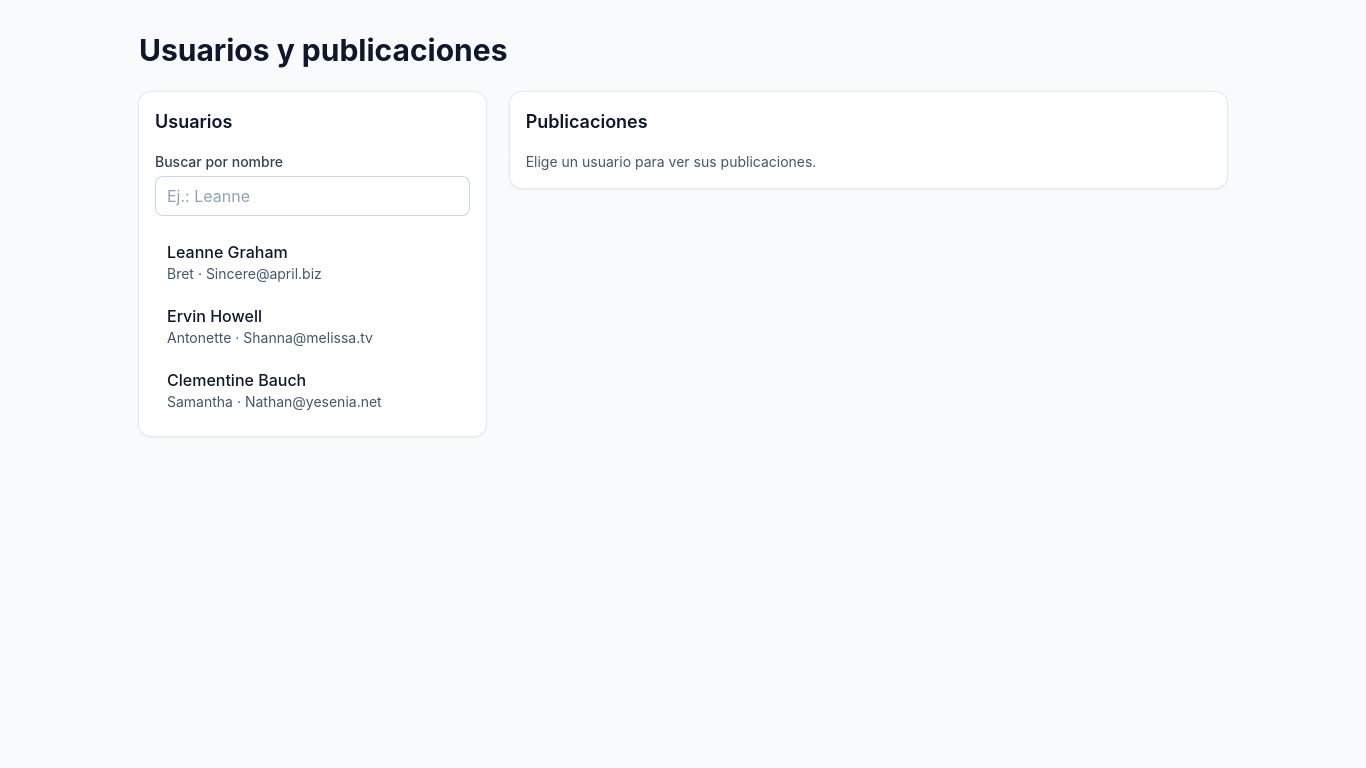
Test case: create post › adds the new post at the top of the list and clears the form
Click the button "Leanne Graham Bret · Sincere@april.biz": {"x": 312, "y": 262} top-left (155, 232), bottom-right (470, 292)
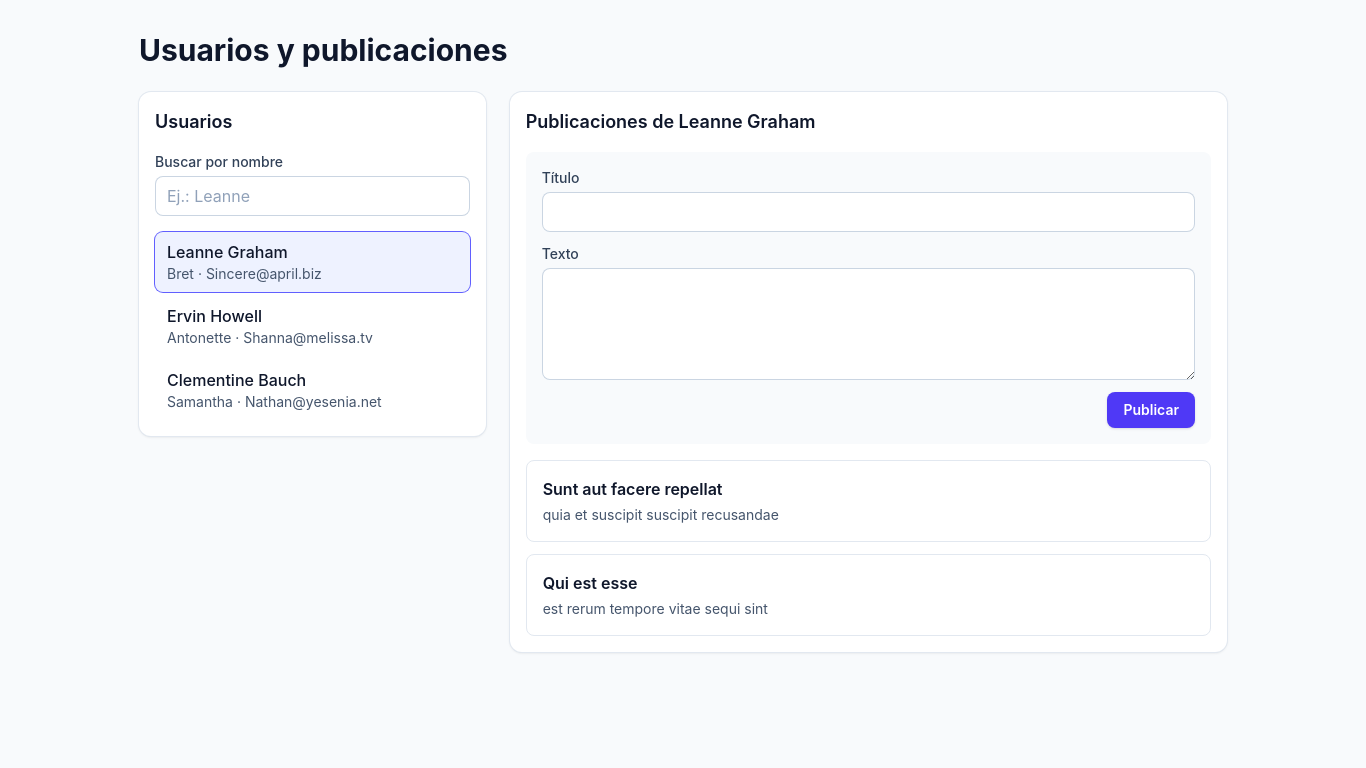
Check: the heading "sunt aut facere repellat" is shown, box top-left (543, 479), bottom-right (722, 499)
In the field labelled "Título": {"x": 868, "y": 212} top-left (542, 192), bottom-right (1195, 232), type "Mi primera publicación"
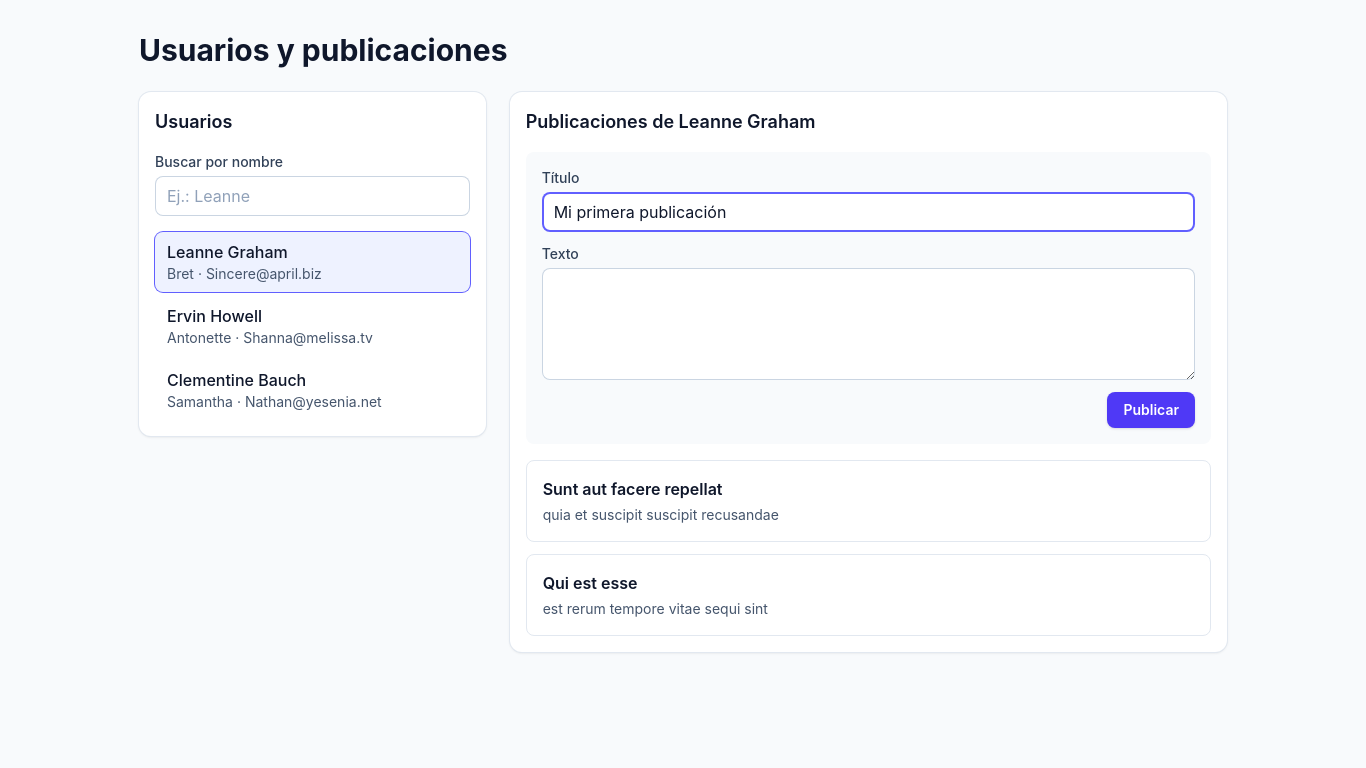
In the text box labelled "Texto": {"x": 868, "y": 324} top-left (542, 268), bottom-right (1195, 380), type "Hola mundo"
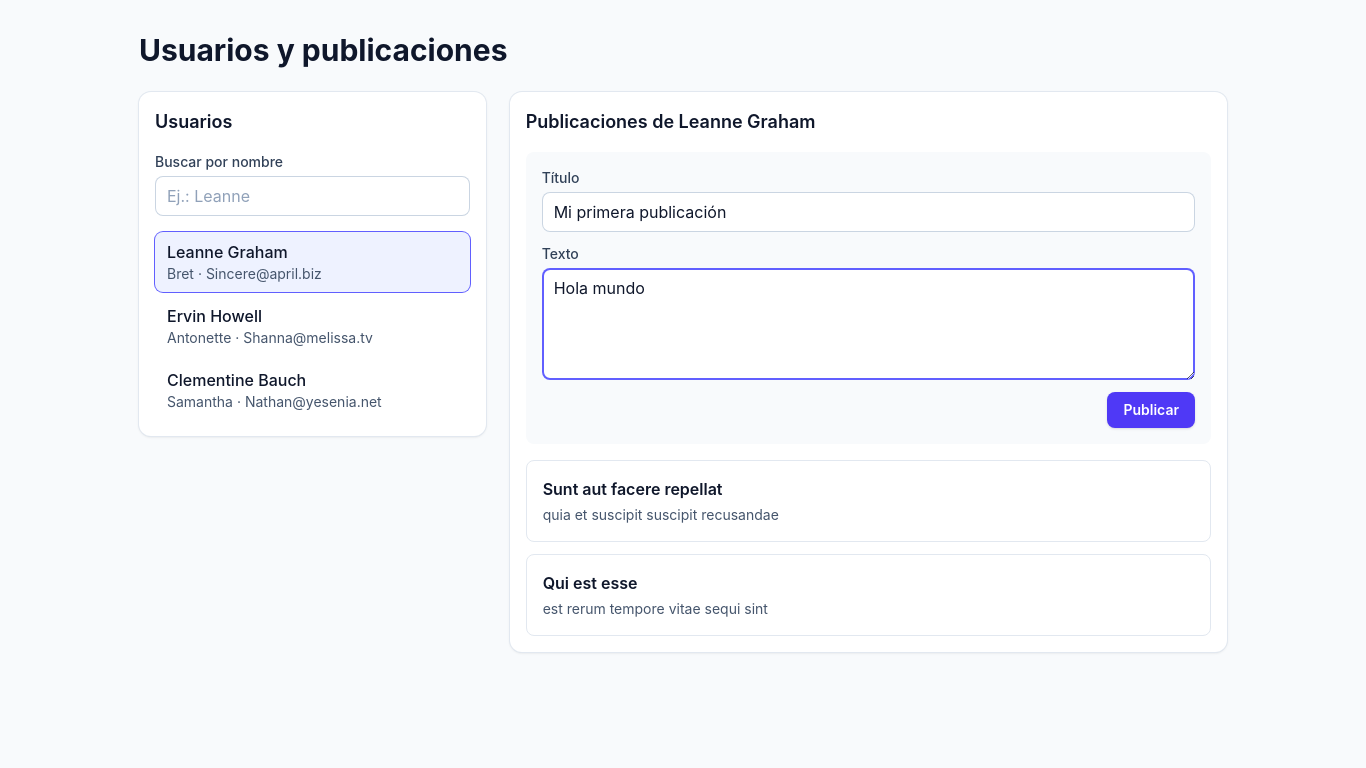
Click the button "Publicar": {"x": 1151, "y": 410} top-left (1107, 392), bottom-right (1195, 428)
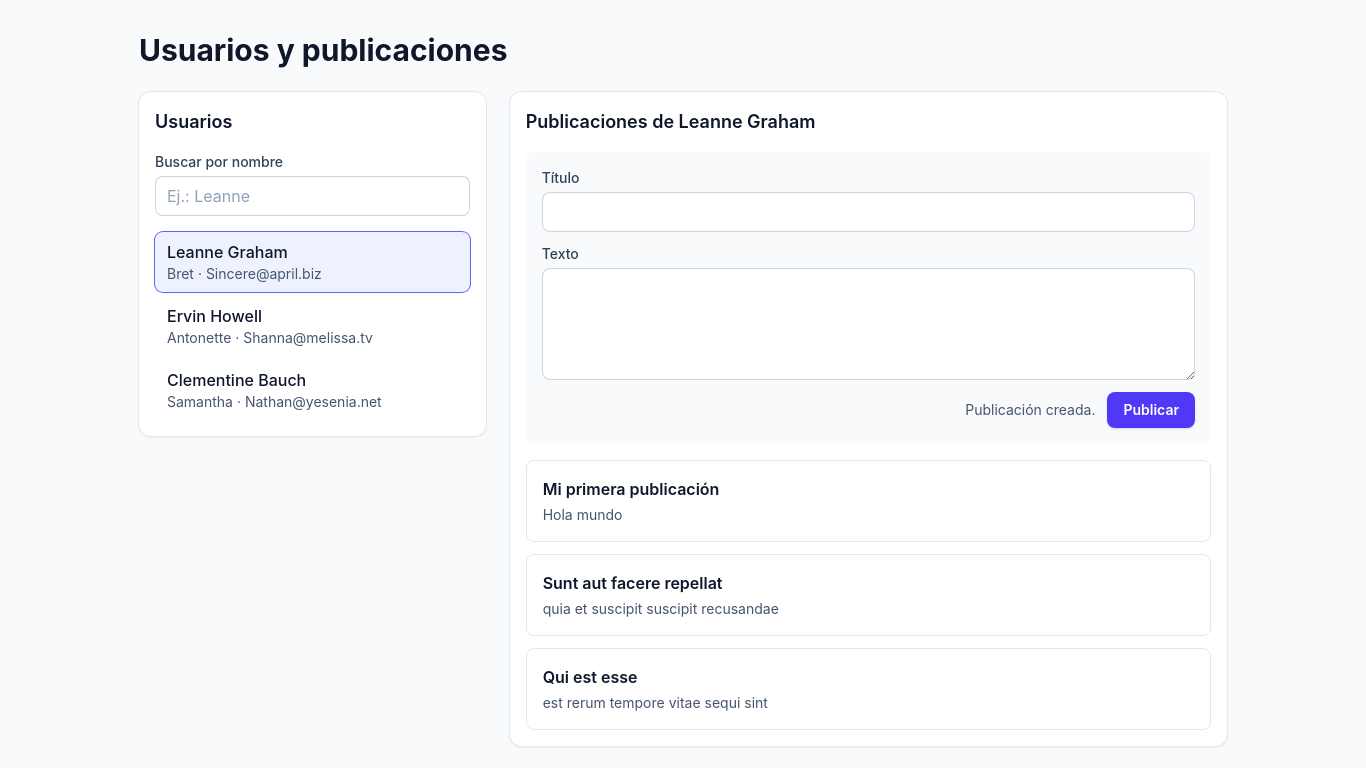
Check: the heading "Mi primera publicación" is shown, box top-left (543, 479), bottom-right (720, 499)
Check: the field labelled "Título" is empty, box top-left (542, 192), bottom-right (1195, 232)
Check: the text box labelled "Texto" is empty, box top-left (542, 268), bottom-right (1195, 380)
